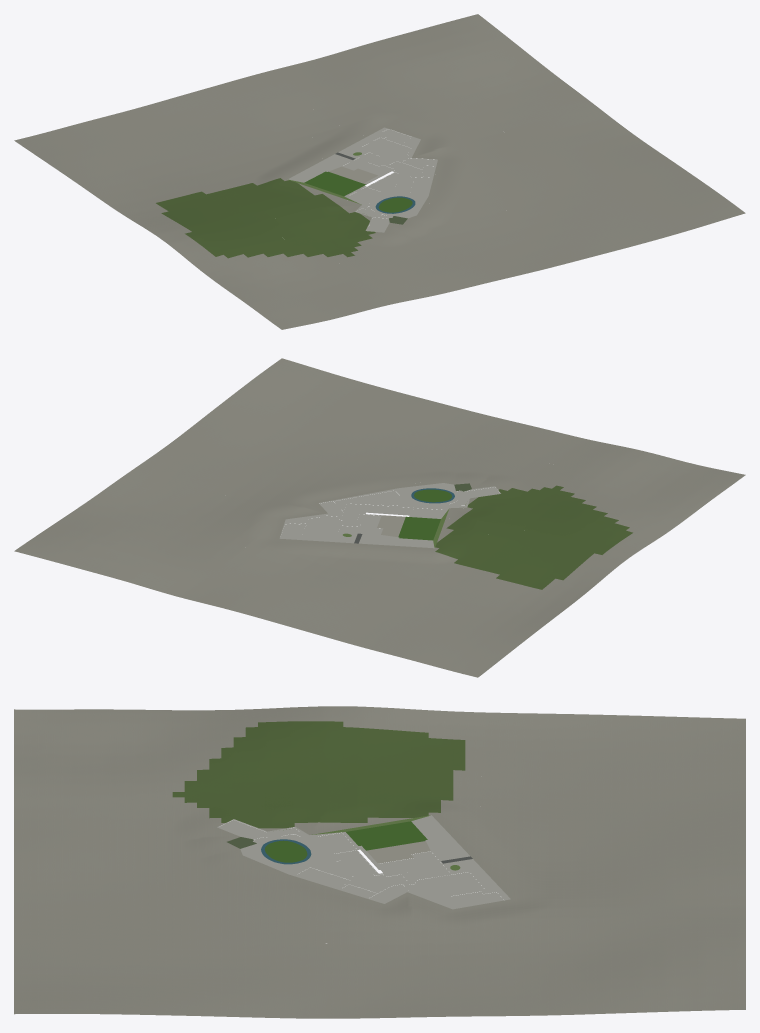
3 views of the same model, one above another, from view 1: azimuth 30°, elevation 25°; view 2: azimuth 150°, elevation 25°; view 3: azimuth 270°, elevation 25° (orthographic). The views are drawn at different scales.
Visible parts, largest first — view 1: ground_context-estimated, surface_school-paving, surface_sports-field; view 2: ground_context-estimated, surface_school-paving, surface_sports-field; view 3: ground_context-estimated, surface_school-paving, surface_sports-field, surface_plaza-granite, surface_track-infield.
Boxes of the visible parts, x1,y1,x2,y2 form: ground_context-estimated: [14, 14, 745, 329]; surface_school-paving: [287, 127, 437, 232]; surface_sports-field: [304, 171, 365, 196]; ground_context-estimated: [14, 358, 745, 677]; surface_school-paving: [279, 483, 500, 548]; surface_sports-field: [398, 516, 440, 540]; ground_context-estimated: [14, 706, 745, 1018]; surface_school-paving: [217, 815, 510, 909]; surface_sports-field: [346, 821, 427, 850]; surface_plaza-granite: [366, 841, 430, 863]; surface_track-infield: [264, 840, 307, 862].
Bounding box in the file's own units: 720 × 19.71 × 720.
Materials: 9 (9 with a texture image).
